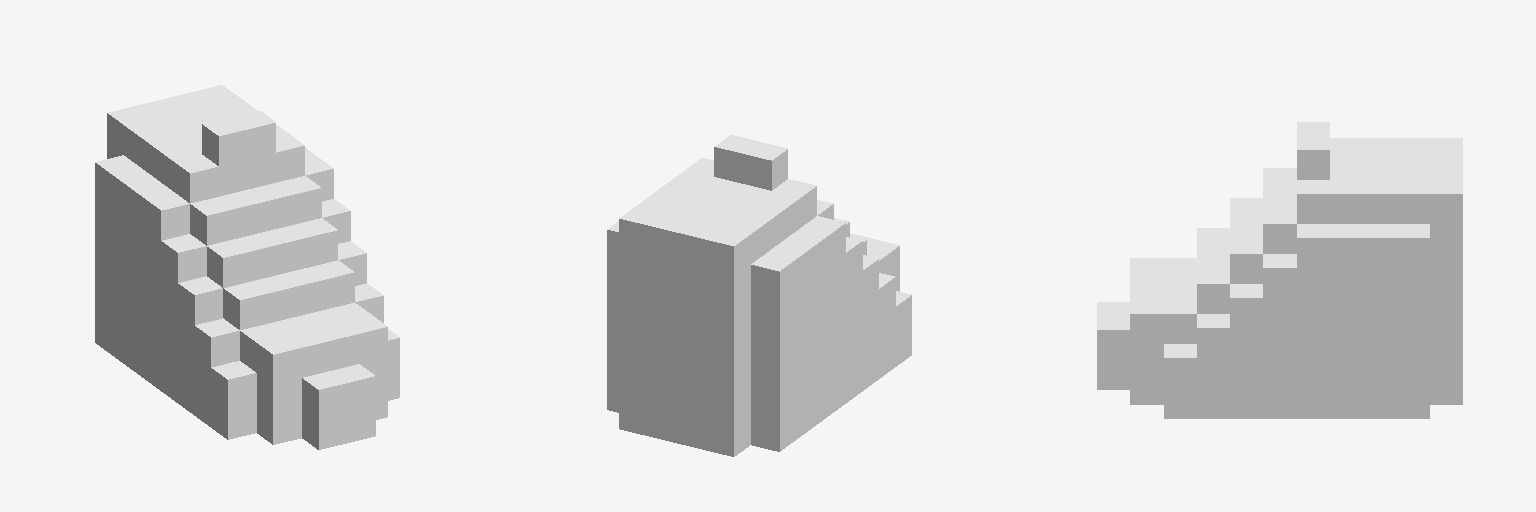
The model's file is anon-6-FootL.obj.
The picture shows the model from 3 angles: view 1: azimuth 30°, elevation 25°; view 2: azimuth 150°, elevation 25°; view 3: azimuth 270°, elevation 25°; orthographic projection.
Parts seen in each view (by area): view 1: FootL; view 2: FootL; view 3: FootL.
Boxes of the visible parts, x1=… form: FootL: x1=95, y1=85, x2=399, y2=449; FootL: x1=607, y1=135, x2=911, y2=456; FootL: x1=1097, y1=122, x2=1462, y2=418.
Size of the model in its own units: 0.6 by 0.8 by 1.1.